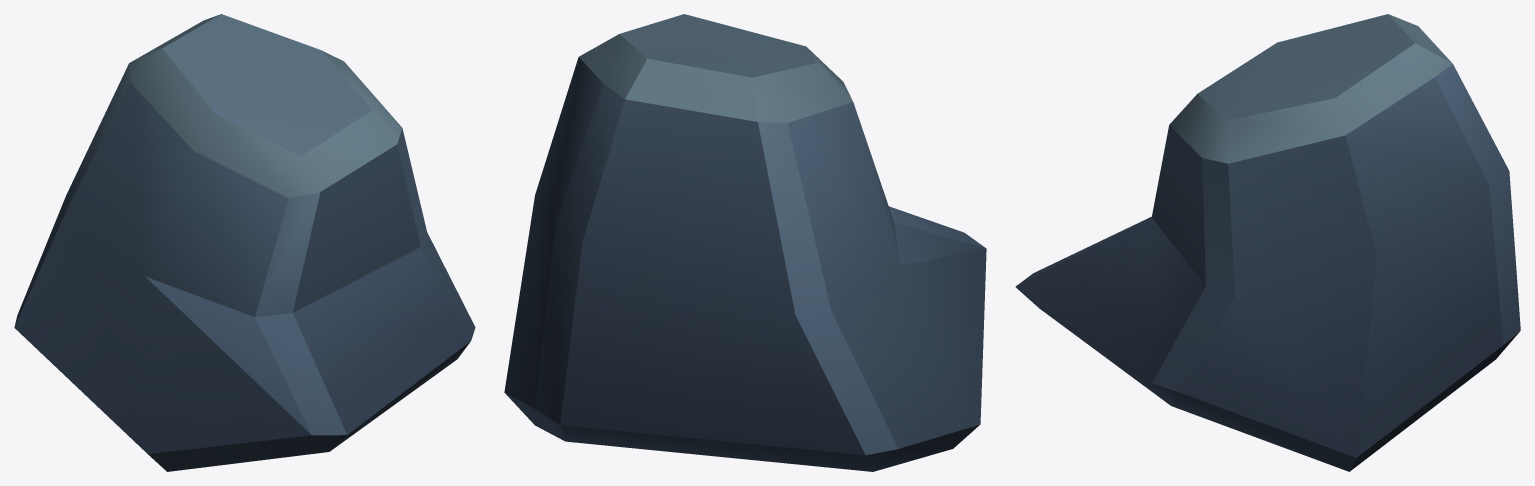
The model's file is rock_small_2.glb.
3 renders of one model, left to right at view 1: azimuth 30°, elevation 25°; view 2: azimuth 150°, elevation 25°; view 3: azimuth 270°, elevation 25°, orthographic. The views are drawn at different scales.
Parts seen in each view (by area): view 1: rock_small_2; view 2: rock_small_2; view 3: rock_small_2.
Part boxes in pixels (left/top/right/bottom): rock_small_2: left=14, top=14, right=475, bottom=471; rock_small_2: left=504, top=14, right=986, bottom=471; rock_small_2: left=1015, top=14, right=1520, bottom=471.
Size of the model in its own units: 1.04 by 0.9971 by 1.25.
1 material, 1 textured.
